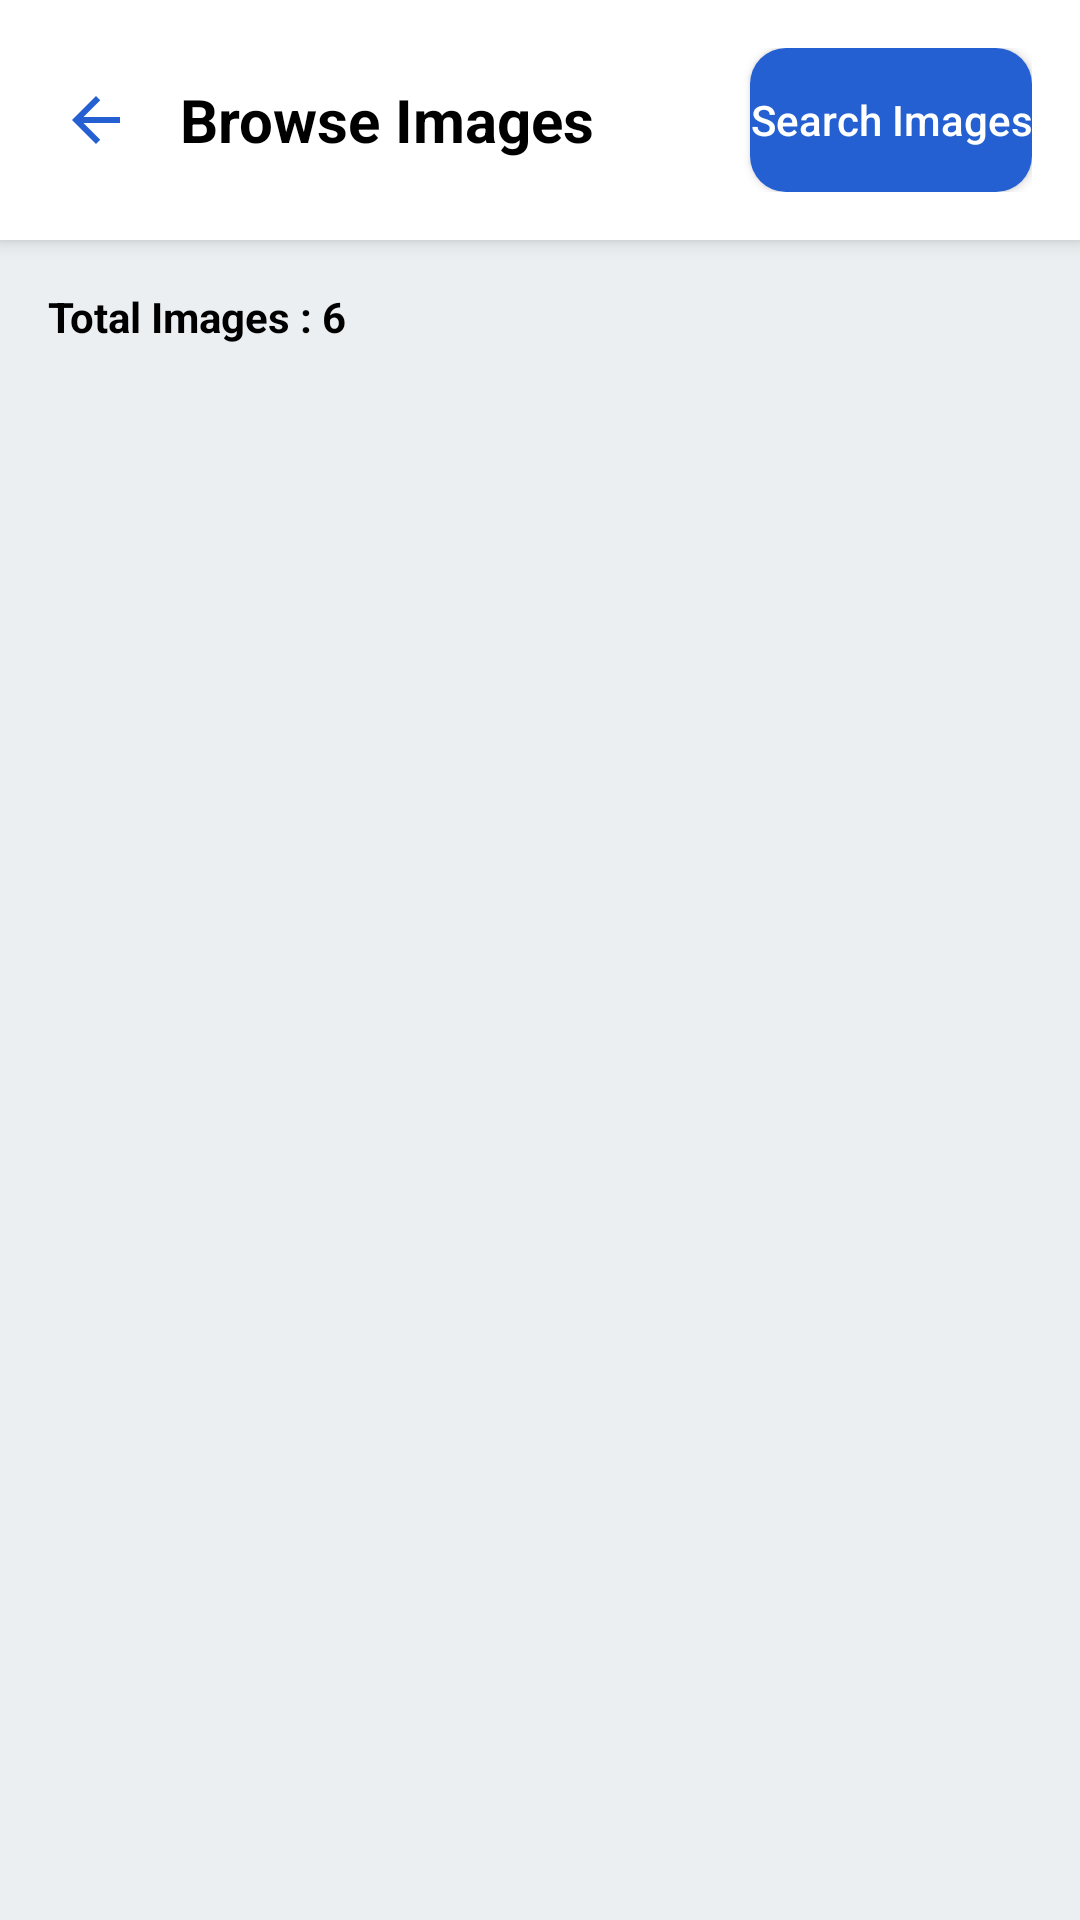

Icon click points for this 1080px x 1920px phone screenshot, format point (x, y):
Back: point (96, 120)
